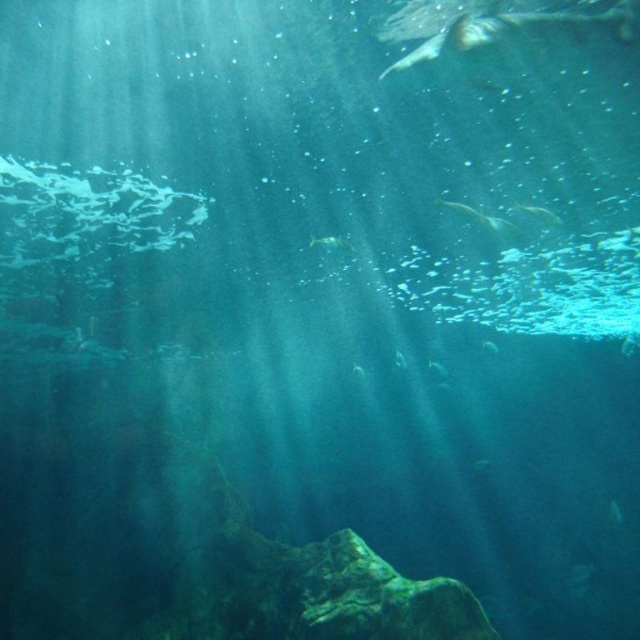Fish: (376, 1, 639, 92), (489, 211, 525, 242), (516, 205, 560, 226), (435, 194, 478, 213), (310, 236, 353, 254), (618, 331, 639, 361), (427, 357, 449, 379), (609, 497, 625, 526), (572, 560, 590, 585), (482, 334, 499, 356), (393, 349, 406, 366), (354, 363, 366, 381), (471, 459, 488, 470)
